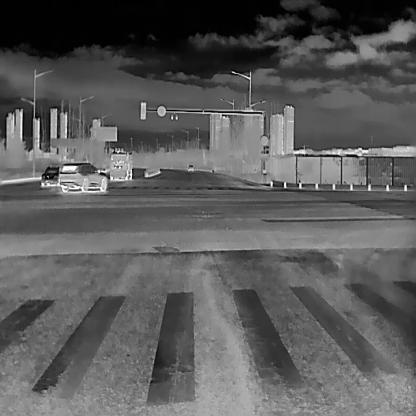car: (59, 163, 108, 193), (109, 151, 133, 180), (40, 164, 59, 187), (187, 163, 194, 171)
